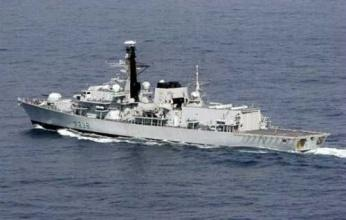warship: (22, 62, 326, 150)
